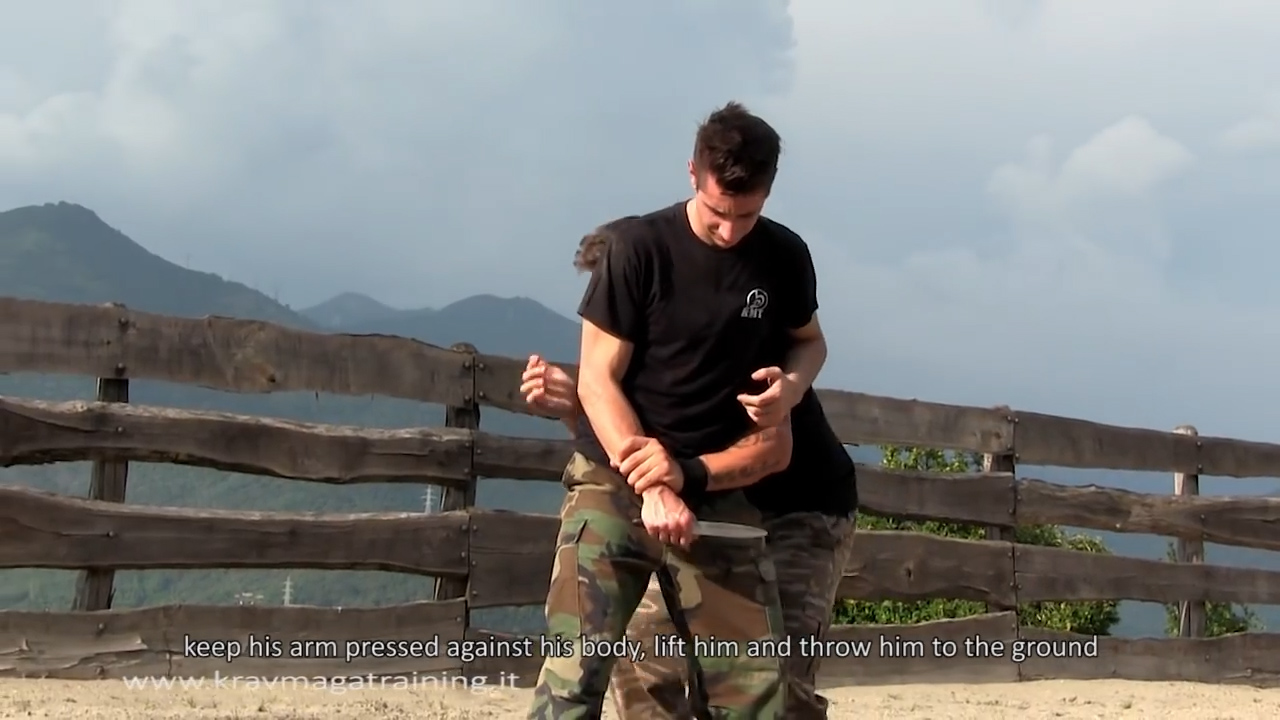knife: (623, 503, 777, 546)
